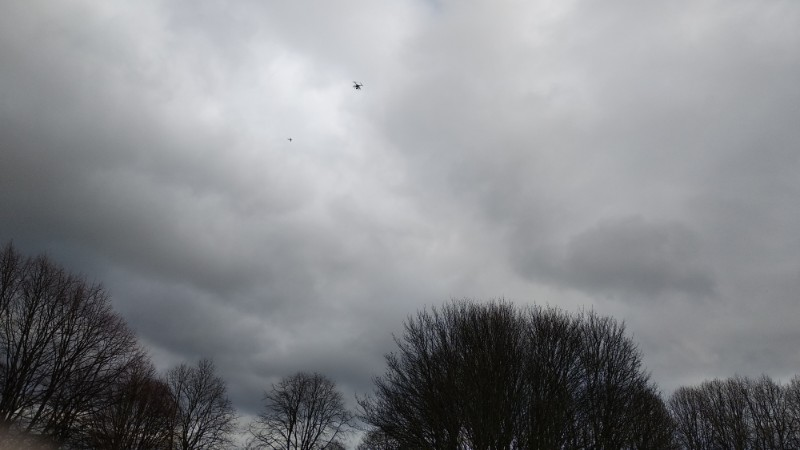drone: (351, 80, 364, 90)
